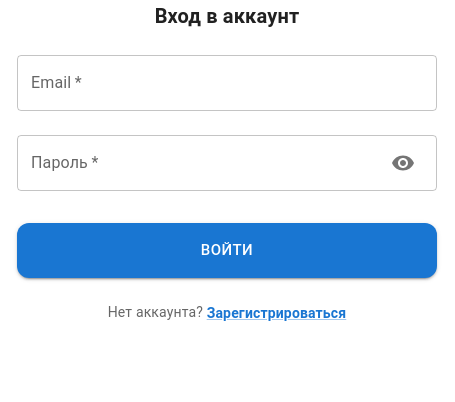
Test: LoginForm › Login › должен показать сообщение об ошибке при неудачном входе
This screenshot has width=455, height=402.
Type "test@example.com" into the field labelled "Email *" at (227, 83), box [17,55,437,111]
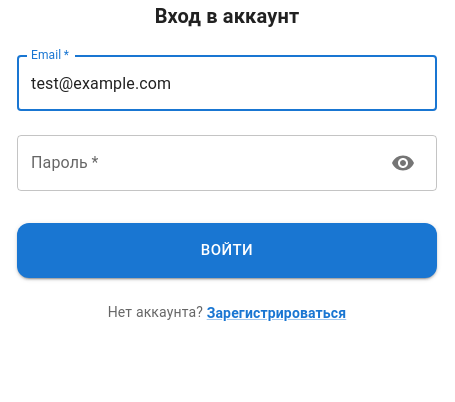
Type "wrongpassword" into the password field labelled "Пароль *" at (196, 163), box [17,135,375,191]
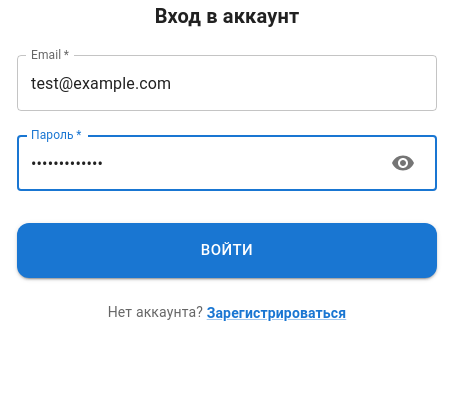
Click the button "Войти" at (227, 250), box [17,223,437,278]
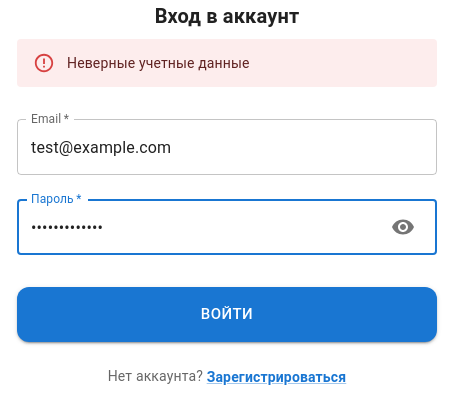
Now the text "Неверные учетные данные" is shown, box [67,55,250,71]
